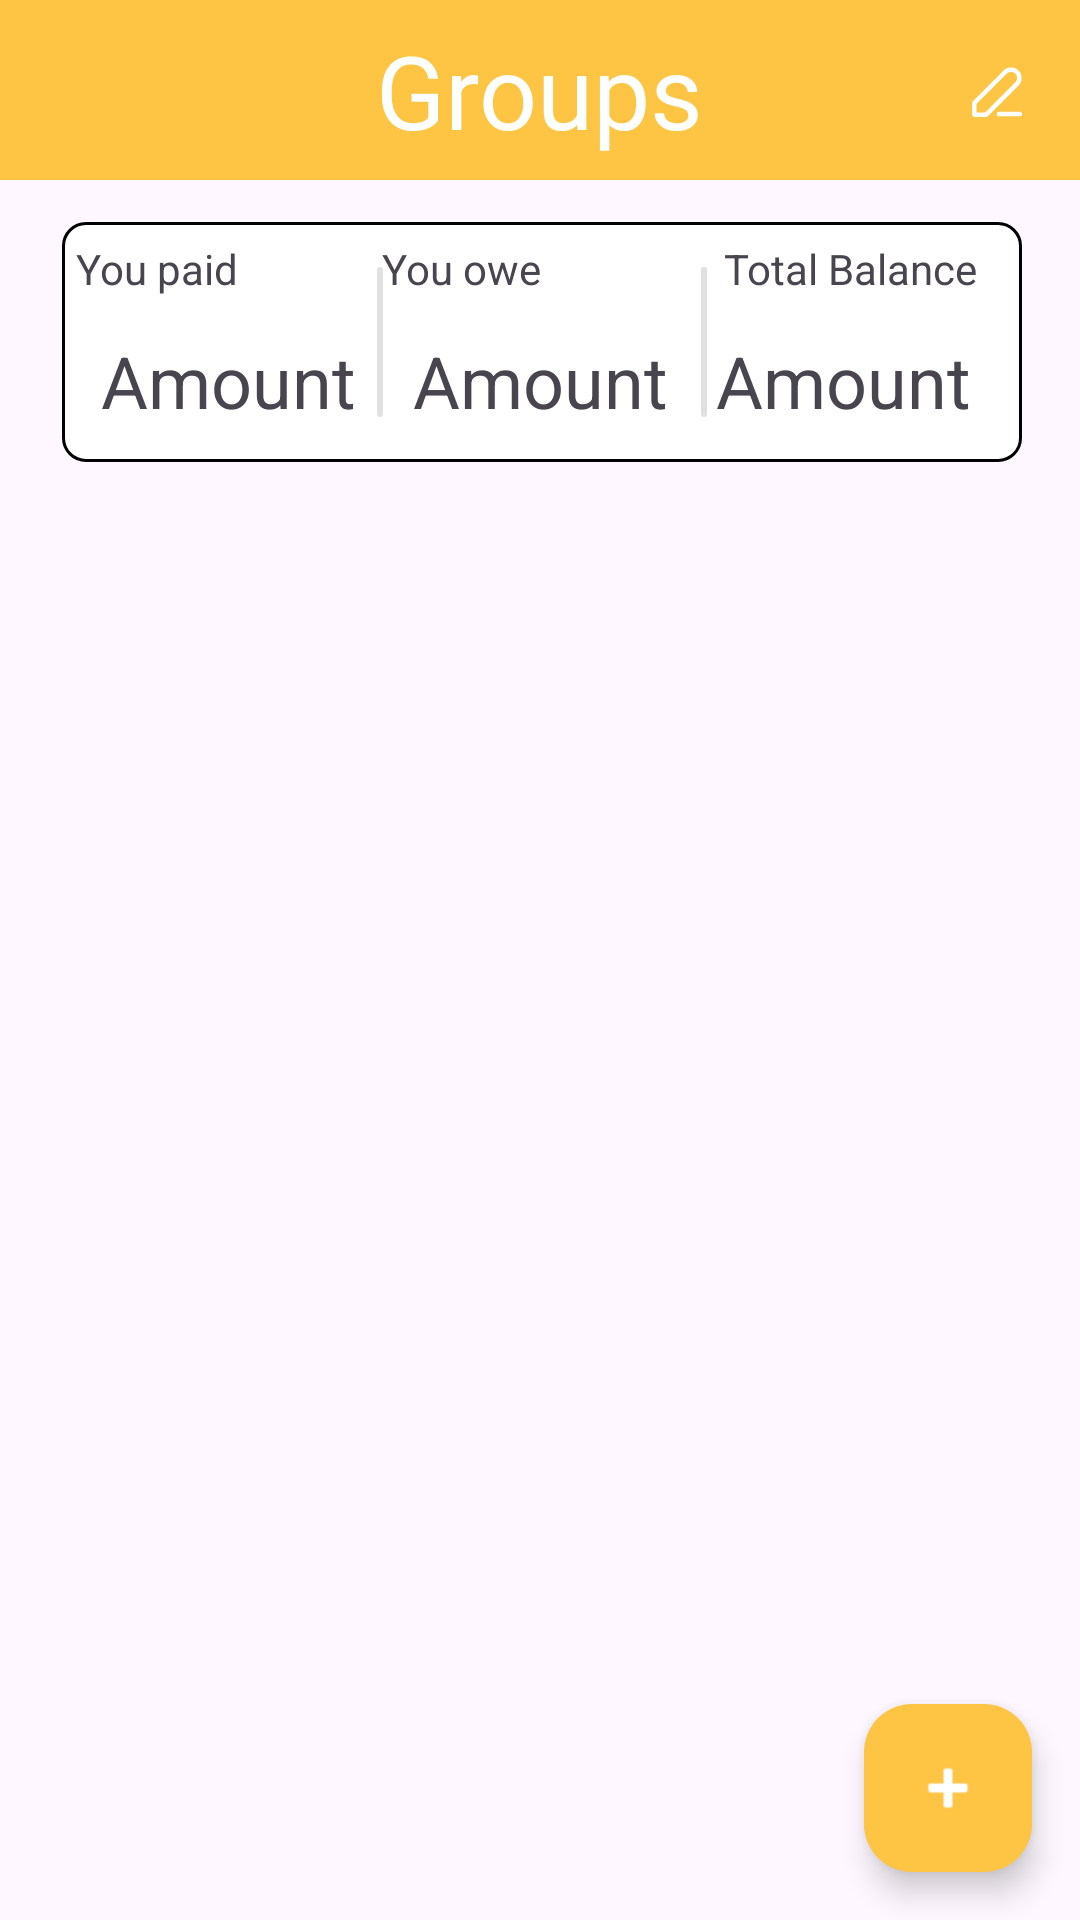

Icons on this 1080x1920 Android screen, each with the point to tap as [x,y]:
Add Group: [948,1788]
Edit: [997,92]
